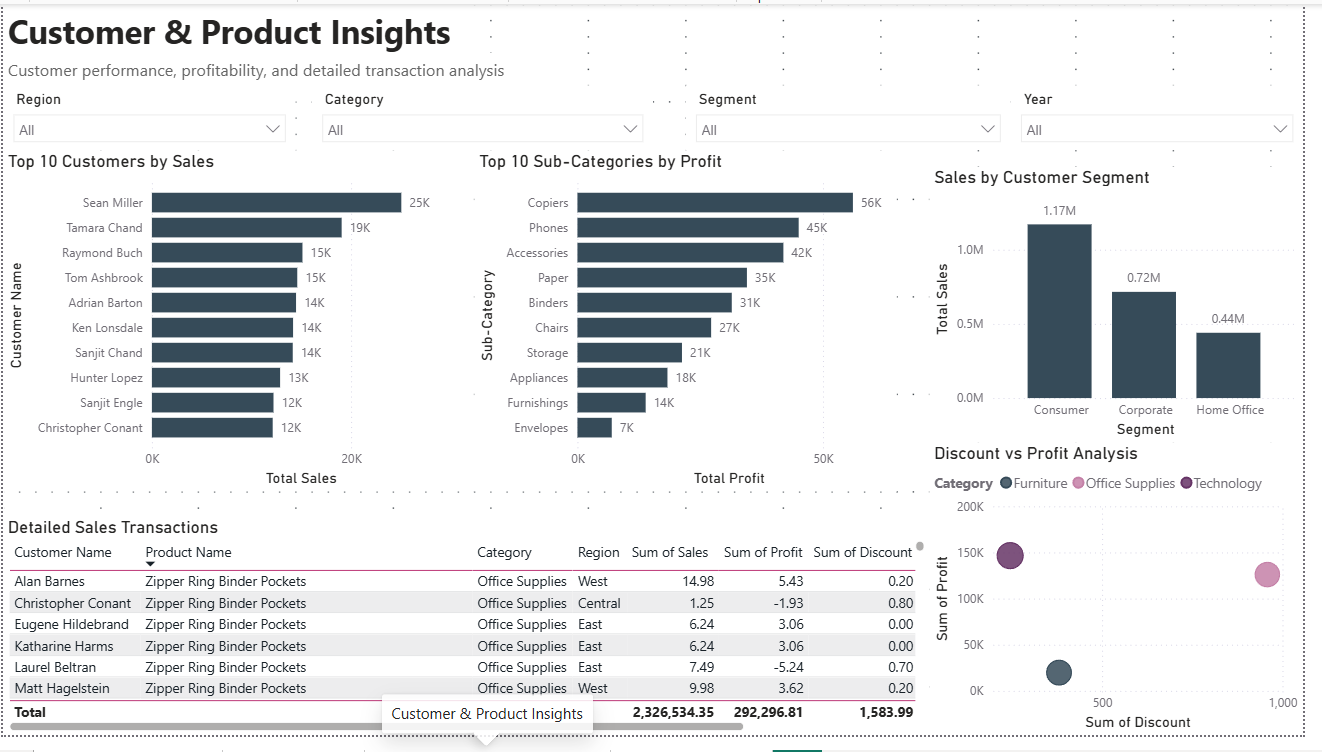

Layout of this report page (visuals, bound fields, positions):
{"tool":"powerbi","page":{"name":"Customer & Product Insights","canvas":[1280,720],"ordinal":2},"visuals":[{"type":"textbox","box":[0,0,456,72],"z":0},{"type":"textbox","box":[0,48,504,48],"z":1000},{"type":"slicer","fields":{"Values":["Orders.Region"]},"box":[0,80,288,64],"z":2000},{"type":"slicer","fields":{"Values":["Orders.Category"]},"box":[304,80,336,64],"z":3000},{"type":"slicer","fields":{"Values":["Orders.Segment"]},"box":[672,80,320,64],"z":4000},{"type":"slicer","fields":{"Values":["Orders.Order Date.Variation.Date Hierarchy.Year"]},"box":[992,80,288,64],"z":5000},{"type":"clusteredBarChart","title":"Top 10 Customers by Sales","fields":{"Category":["Orders.Customer Name"],"Y":["Orders.Total Sales"]},"box":[0,144,456,336],"z":6000},{"type":"clusteredColumnChart","title":"Sales by Customer Segment","fields":{"Category":["Orders.Segment"],"Y":["Orders.Total Sales"]},"box":[912,160,368,272],"z":7000},{"type":"clusteredBarChart","title":"Top 10 Sub-Categories by Profit","fields":{"Category":["Orders.Sub-Category"],"Y":["Orders.Total Profit"]},"box":[464,144,416,336],"z":8000},{"type":"scatterChart","title":"Discount vs Profit Analysis","fields":{"X":["Sum(Orders.Discount)"],"Y":["Sum(Orders.Profit)"],"Size":["Sum(Orders.Sales)"],"Series":["Orders.Category"]},"box":[912,432,368,288],"z":9000},{"type":"tableEx","title":"Detailed Sales Transactions","fields":{"Values":["Orders.Customer Name","Orders.Product Name","Orders.Category","Orders.Region","Sum(Orders.Sales)","Sum(Orders.Profit)","Sum(Orders.Discount)","Orders.Order Date.Variation.Date Hierarchy.Year","Orders.Order Date.Variation.Date Hierarchy.Quarter","Orders.Order Date.Variation.Date Hierarchy.Month","Orders.Order Date.Variation.Date Hierarchy.Day"]},"box":[0,504,912,216],"z":10000}]}

Visuals, with their boxes in screenshot pixels (x1, y1, x2, y2), scaled from the page's 1280x720 canvas onto the 1322x752 screenshot:
textbox: 0/0/471/75
textbox: 0/50/521/100
slicer - Orders.Region: 0/84/297/150
slicer - Orders.Category: 314/84/661/150
slicer - Orders.Segment: 694/84/1025/150
slicer - Orders.Order Date.Variation.Date Hierarchy.Year: 1025/84/1321/150
"Top 10 Customers by Sales" clusteredBarChart: 0/150/471/501
"Sales by Customer Segment" clusteredColumnChart: 942/167/1321/451
"Top 10 Sub-Categories by Profit" clusteredBarChart: 479/150/909/501
"Discount vs Profit Analysis" scatterChart: 942/451/1321/751
"Detailed Sales Transactions" tableEx: 0/526/942/751
